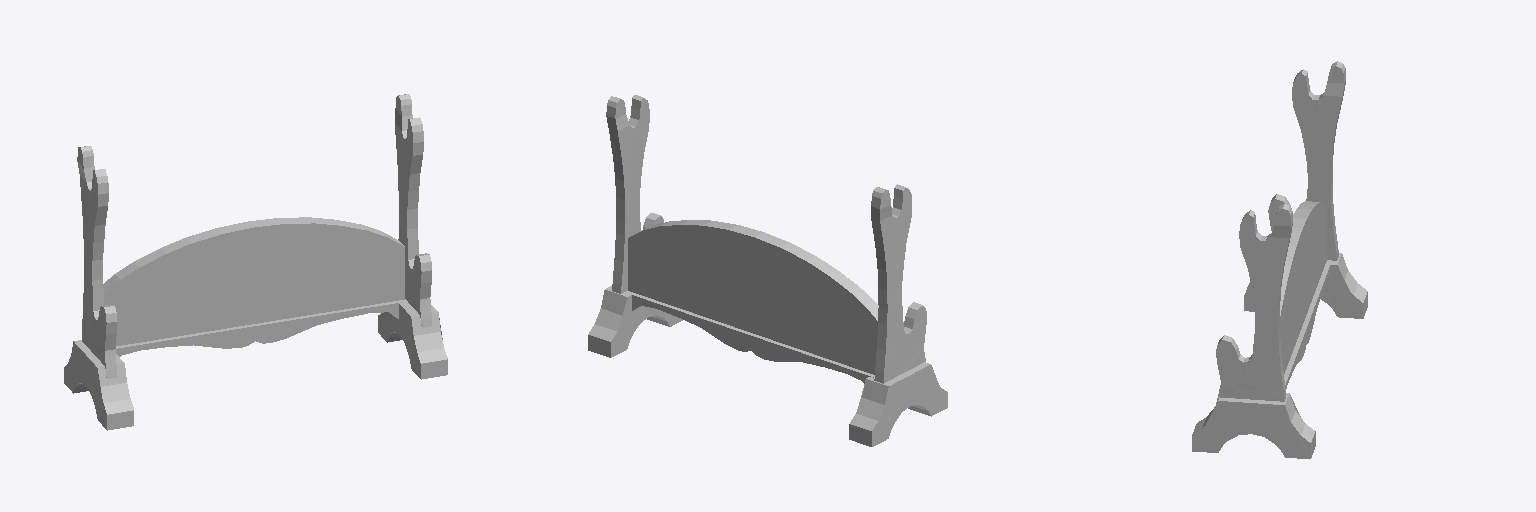
Rendered from basesword.obj.
The picture shows the model from 3 angles: view 1: azimuth 30°, elevation 25°; view 2: azimuth 150°, elevation 25°; view 3: azimuth 270°, elevation 25°; orthographic projection.
Parts seen in each view (by area): view 1: model_2; view 2: model_2; view 3: model_2.
Boxes of the visible parts, <box> form: model_2: <box>64,94,447,430</box>; model_2: <box>588,95,947,446</box>; model_2: <box>1192,61,1367,458</box>.
Size of the model in its own units: 74.95 by 53.67 by 34.73.